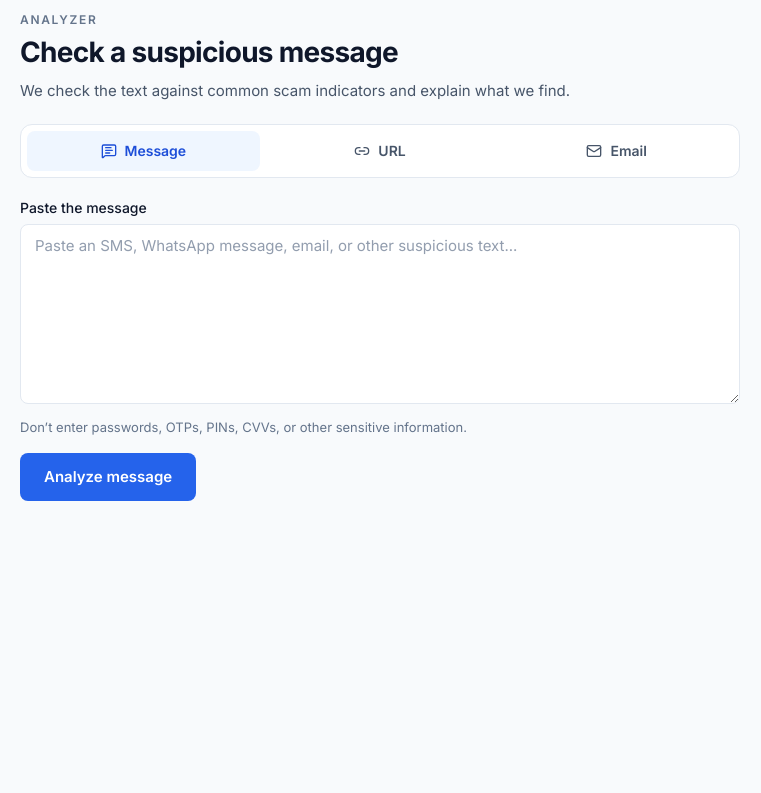
Test case: analyzer page › successful message analysis shows risk and category
The width and height of the screenshot is (761, 793).
Type "Your OTP is needed urgently." into the text box at (380, 314), box [20, 224, 740, 404]
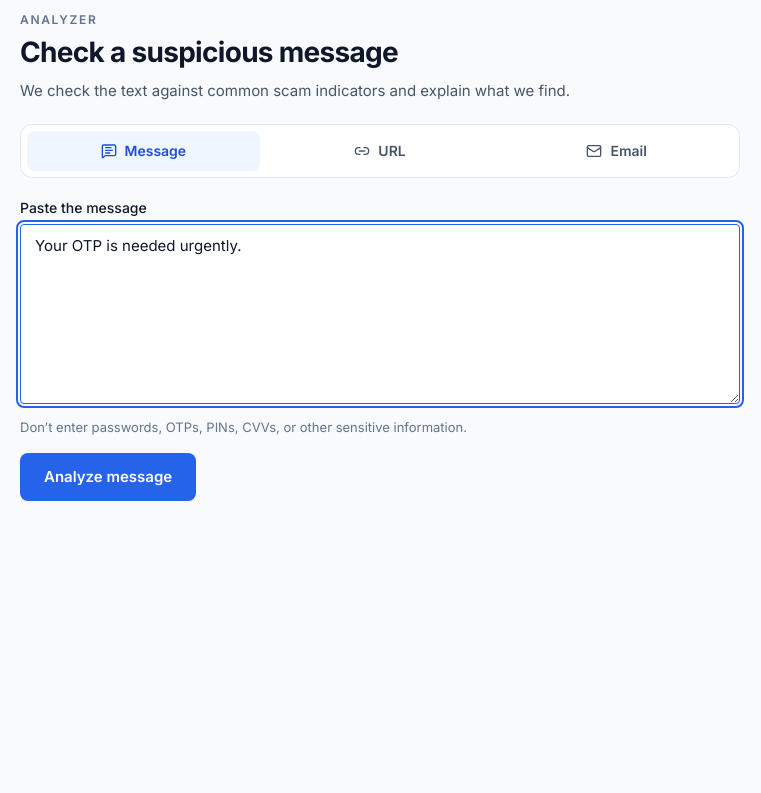
Click the button "Analyze message" at (108, 477), box [20, 453, 196, 501]
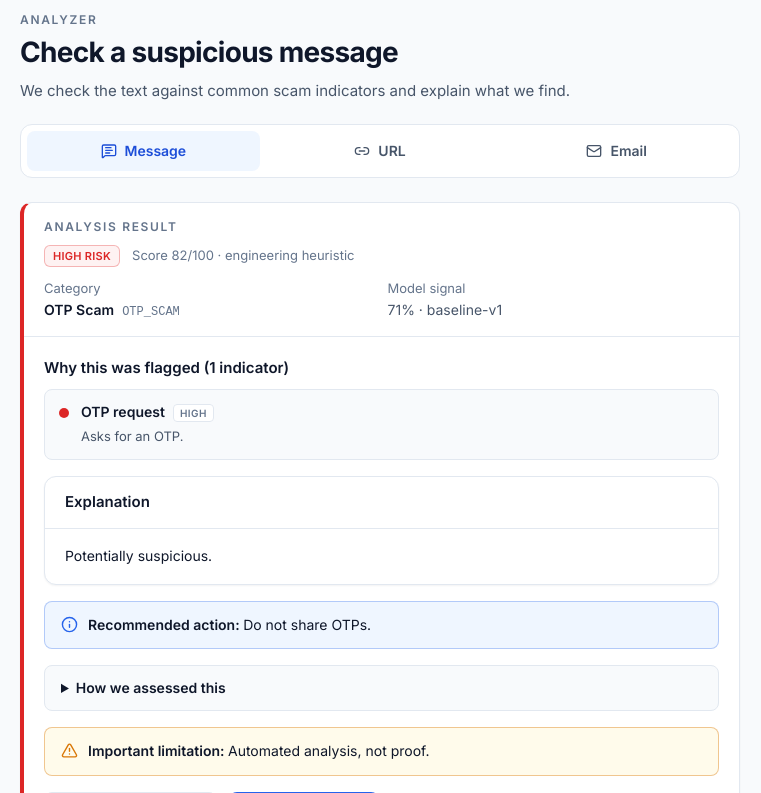
expect the text "Analysis result" is shown: met, box [44, 219, 178, 234]
expect the text "OTP Scam" is shown: met, box [44, 301, 114, 318]
expect the heading "Why this was flagged (1 indicator)" is shown: met, box [44, 358, 289, 377]
